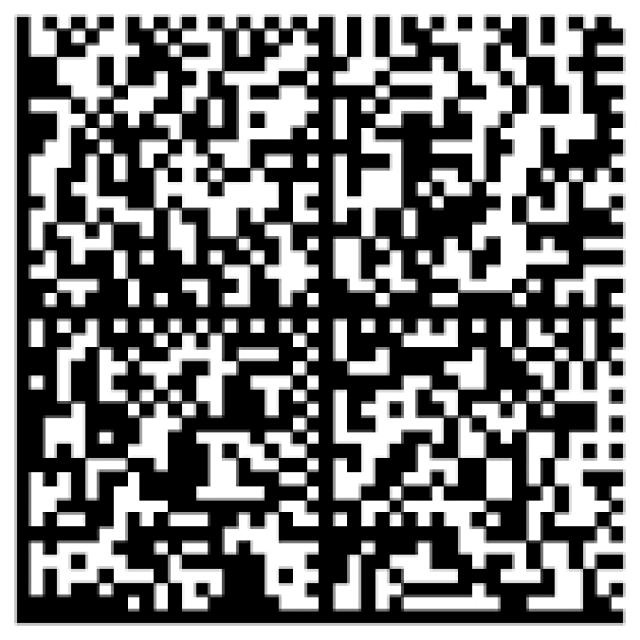datamatrix: (6, 9, 632, 637)
